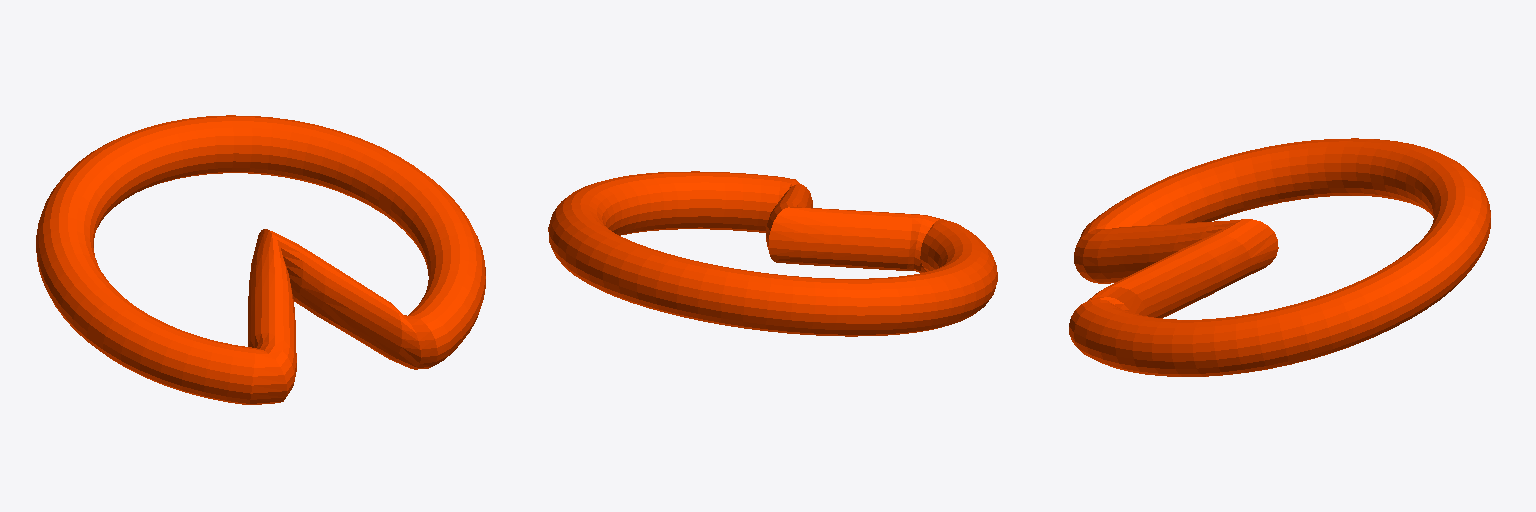
The model's file is roll.obj.
3 renders of one model, left to right at view 1: azimuth 30°, elevation 25°; view 2: azimuth 150°, elevation 25°; view 3: azimuth 270°, elevation 25°, orthographic.
Visible parts, largest first — view 1: Torus001; view 2: Torus001; view 3: Torus001.
Part boxes in pixels (left/top/right/bottom): Torus001: left=36, top=115, right=485, bottom=404; Torus001: left=548, top=171, right=997, bottom=336; Torus001: left=1069, top=138, right=1490, bottom=376.
Size of the model in its own units: 59.99 by 18.41 by 56.02.